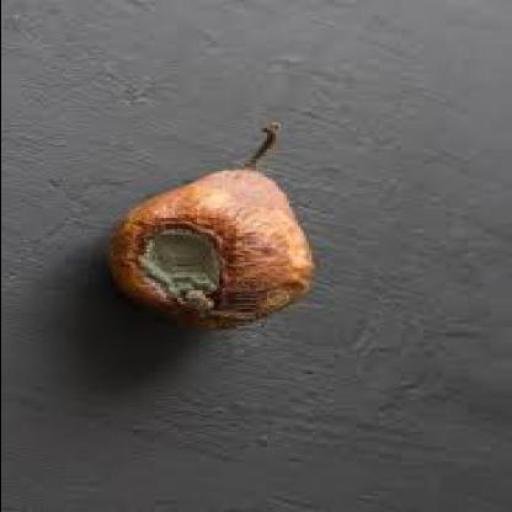biodegradable: (109, 120, 322, 326)
